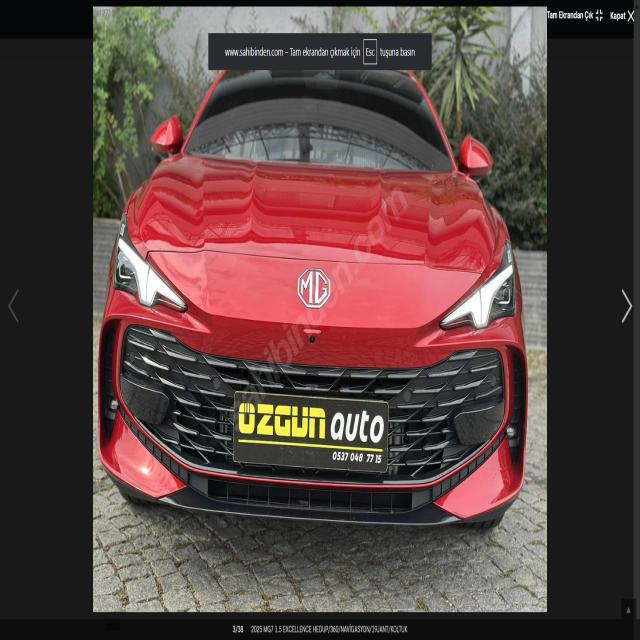mg: (292, 257, 337, 318)
